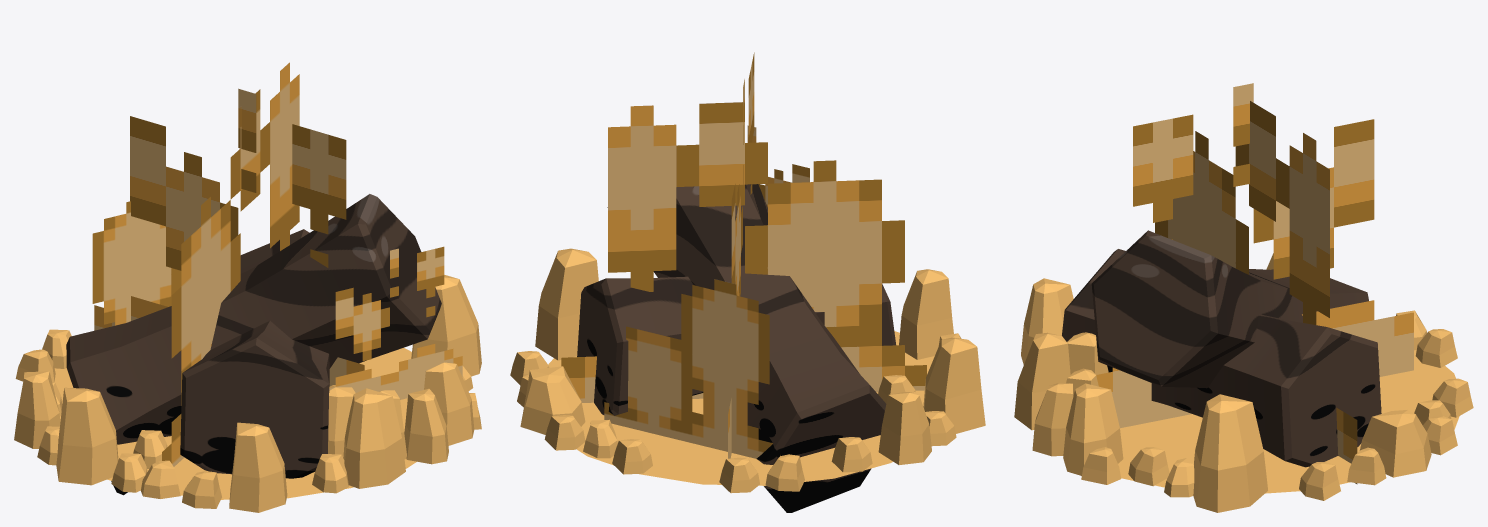
Rendered from Campfire4.fbx.
3 views of the same model, side by side, from view 1: azimuth 30°, elevation 25°; view 2: azimuth 150°, elevation 25°; view 3: azimuth 270°, elevation 25° (orthographic). The views are drawn at different scales.
Parts seen in each view (by area): view 1: logs4, rocks4, cf_flamesy_b2, cf_flamesy_b1, cf_flamesy_a1, cf_flamesy_a2, stone_circle4; view 2: cf_flamesy_b1, logs4, rocks4, cf_flamesy_a1, stone_circle4, cf_flamesy_b2, cf_flamesy_a2; view 3: logs4, rocks4, cf_flamesy_b2, cf_flamesy_b1, stone_circle4.
Boxes of the visible parts, x1=… form: logs4: x1=66, y1=194, x2=441, y2=495; rocks4: x1=14, y1=275, x2=481, y2=512; cf_flamesy_b2: x1=94, y1=88, x2=364, y2=386; cf_flamesy_b1: x1=162, y1=62, x2=299, y2=466; cf_flamesy_a1: x1=92, y1=201, x2=181, y2=325; cf_flamesy_a2: x1=329, y1=246, x2=462, y2=399; stone_circle4: x1=54, y1=347, x2=416, y2=499; cf_flamesy_b1: x1=561, y1=102, x2=926, y2=402; logs4: x1=577, y1=184, x2=895, y2=512; rocks4: x1=510, y1=248, x2=985, y2=493; cf_flamesy_a1: x1=604, y1=279, x2=780, y2=458; stone_circle4: x1=548, y1=331, x2=934, y2=485; cf_flamesy_b2: x1=728, y1=52, x2=754, y2=458; cf_flamesy_a2: x1=747, y1=125, x2=809, y2=207; logs4: x1=1062, y1=230, x2=1381, y2=467; rocks4: x1=1014, y1=253, x2=1473, y2=512; cf_flamesy_b2: x1=1096, y1=83, x2=1413, y2=428; cf_flamesy_b1: x1=1155, y1=101, x2=1357, y2=484; stone_circle4: x1=1118, y1=350, x2=1459, y2=493.
Size of the model in its own units: 39.38 by 33.59 by 35.44.
